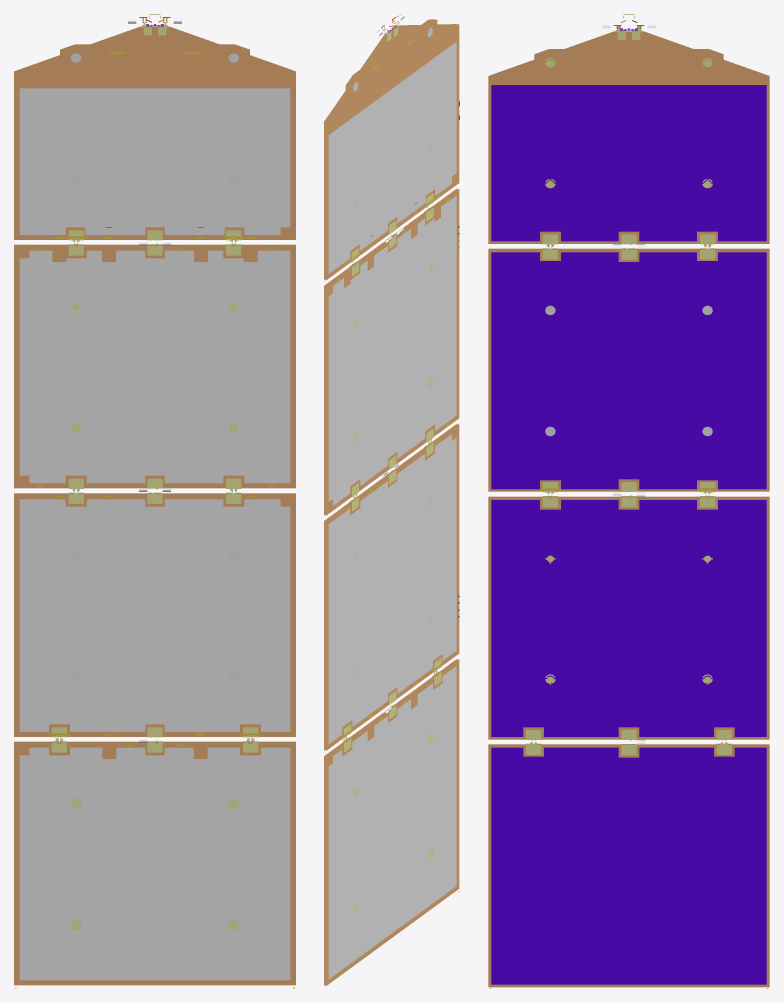
The model's file is LDCM_SolarArray.obj.
3 renders of one model, left to right at view 1: azimuth 90°, elevation 25°; view 2: azimuth 150°, elevation 25°; view 3: azimuth 270°, elevation 25°, orthographic. The views are drawn at different scales.
Visible parts, largest first — view 1: Solar_Material__2, Solar_Material__40, Solar_Material__41, Solar_Material__11, Solar_Material__16; view 2: Solar_Material__2, Solar_Material__40, Solar_Material__41, Solar_Material__11, Solar_Material__16; view 3: Solar_Material__43, Solar_Material__40, Solar_Material__41.
Part boxes in pixels (x1,y1,x2,y2): Solar_Material__2: (19, 88, 290, 980); Solar_Material__40: (14, 26, 295, 985); Solar_Material__41: (51, 14, 258, 929); Solar_Material__11: (35, 51, 274, 746); Solar_Material__16: (71, 53, 238, 681); Solar_Material__2: (328, 42, 456, 979); Solar_Material__40: (324, 19, 459, 985); Solar_Material__41: (342, 15, 441, 912); Solar_Material__11: (336, 38, 449, 737); Solar_Material__16: (353, 27, 432, 677); Solar_Material__43: (491, 85, 766, 984); Solar_Material__40: (488, 31, 769, 987); Solar_Material__41: (526, 14, 731, 755).
Size of the model in its own units: 0.1188 by 9.81 by 2.57.
